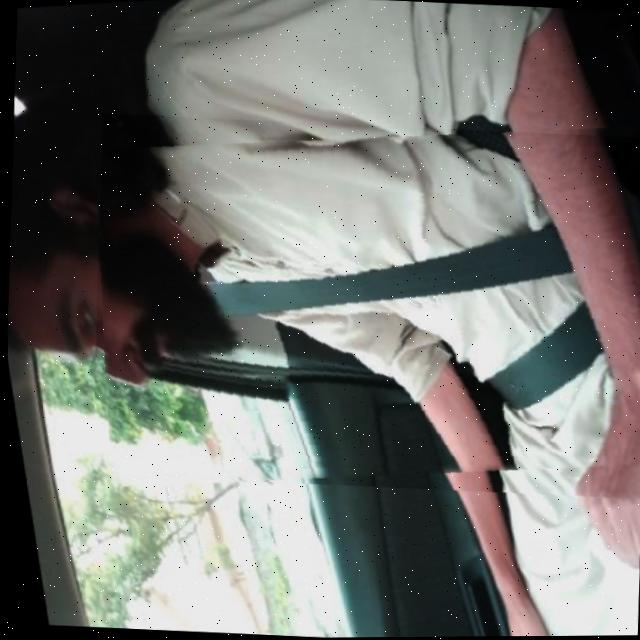seatbelt: (82, 110, 640, 503)
